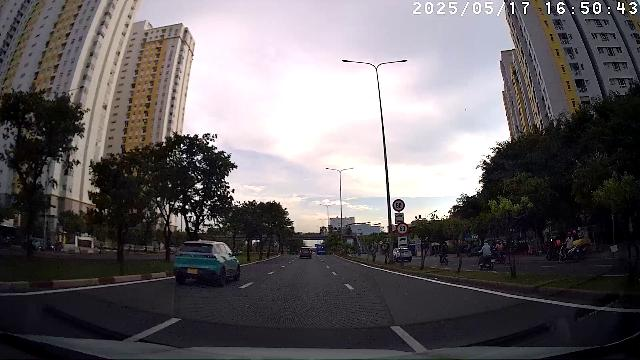127-toc-do-toi-da-60: (396, 222, 408, 236)
127-toc-do-toi-da-80: (393, 198, 405, 212)
